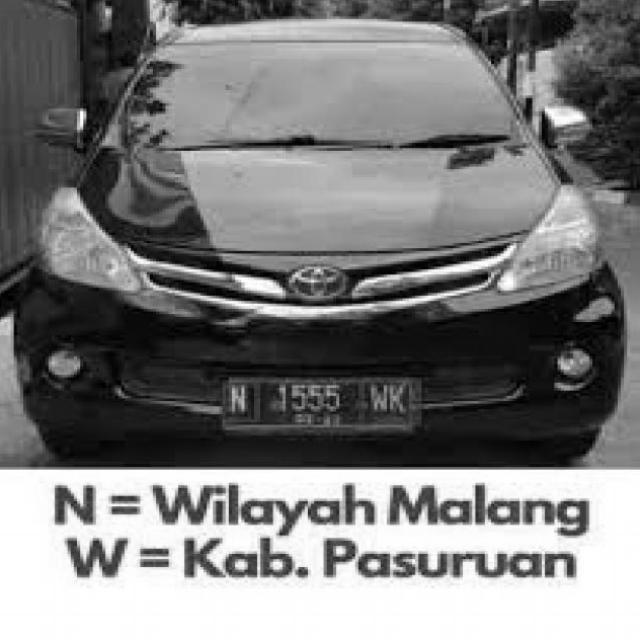1: (274, 383, 292, 417)
5: (304, 376, 325, 428), (322, 378, 346, 414), (292, 378, 308, 419)
K: (391, 383, 407, 421)
N: (222, 383, 252, 415)
W: (368, 383, 392, 421)
